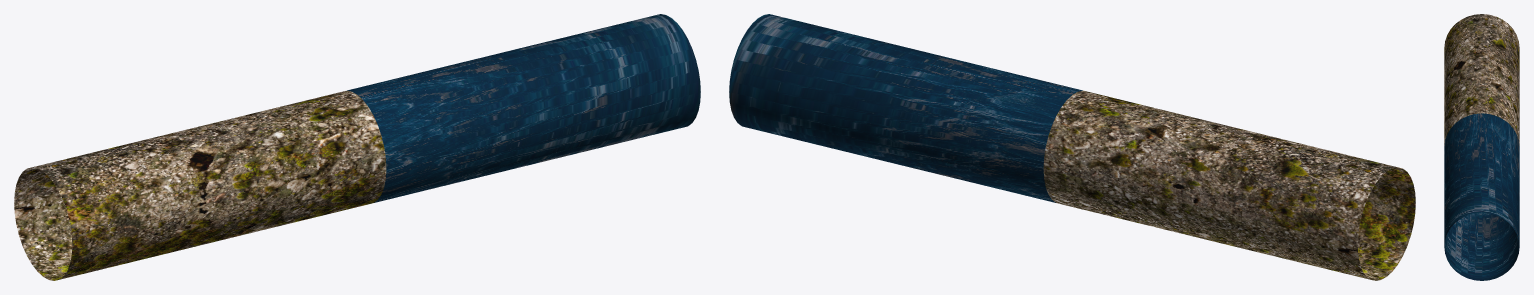
The model's file is Tunnel5_GS.glb.
3 renders of one model, left to right at view 1: azimuth 30°, elevation 25°; view 2: azimuth 150°, elevation 25°; view 3: azimuth 270°, elevation 25°, orthographic. The views are drawn at different scales.
Parts seen in each view (by area): view 1: Cylinder.002, Cylinder; view 2: Cylinder.002, Cylinder; view 3: Cylinder, Cylinder.002.
Boxes of the visible parts, x1,y1,x2,y2 form: Cylinder.002: [14, 90, 386, 280]; Cylinder: [347, 14, 700, 202]; Cylinder.002: [1043, 90, 1415, 280]; Cylinder: [729, 14, 1082, 202]; Cylinder: [1444, 113, 1519, 280]; Cylinder.002: [1444, 14, 1519, 145].
Bounding box in the file's own units: 6.31 × 1.01 × 1.01.
2 materials, 2 textured.
